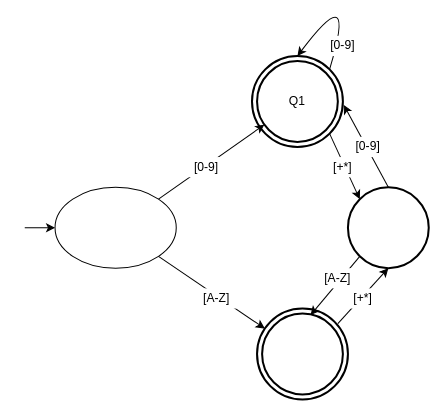
Some shapes in this 447 by 418 pixel diagram are drawn without their labels. The shapes that lost their labels are listed below. From the top down, each one's centre as x and y in pixels, then its label:
point 115,227: Inicio
point 387,227: Q3
point 302,353: Q2
